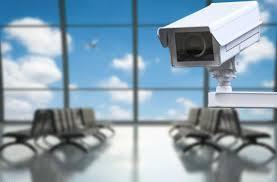tutu: (152, 0, 267, 74)
